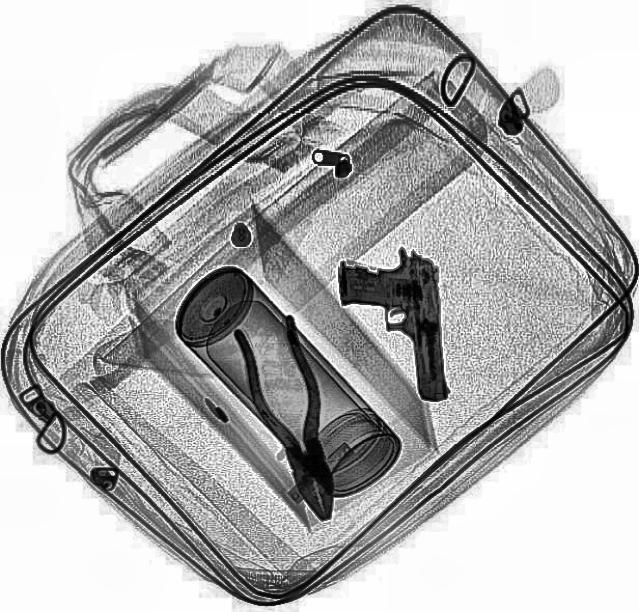Gun: (334, 243, 450, 407)
Pliers: (229, 313, 355, 527)
